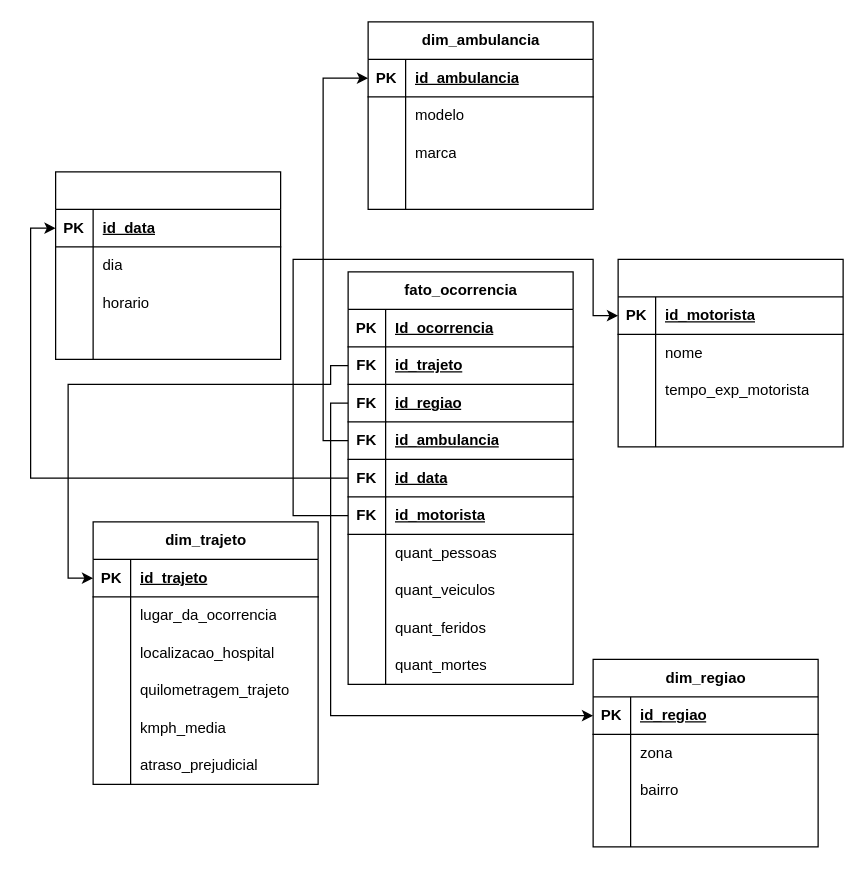
This 865x869 diagram has some shape labels left out. Each missing label, with the box of its shape:
dim_data: (54, 171, 281, 359)
dim_motorista: (617, 258, 843, 447)
